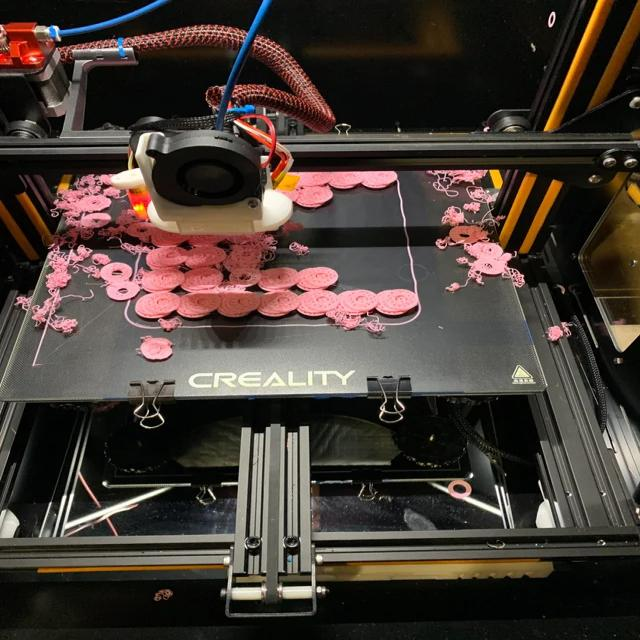spaghetti: (24, 122, 422, 339), (425, 170, 521, 291)
